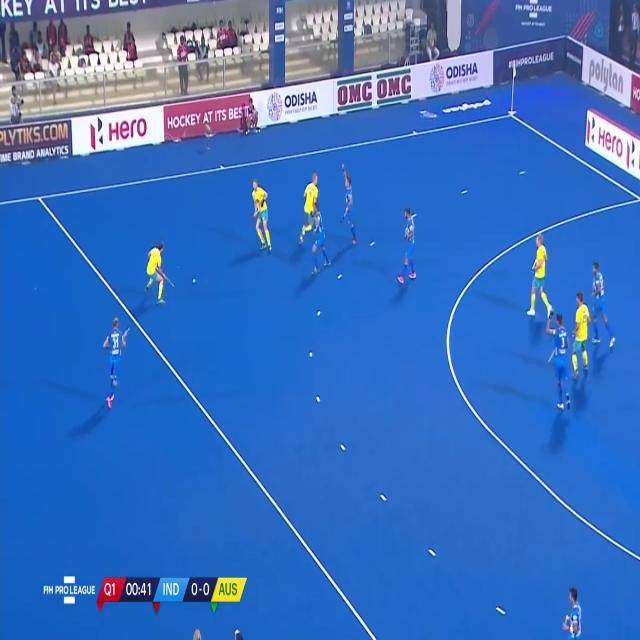ball: (191, 276, 198, 287)
